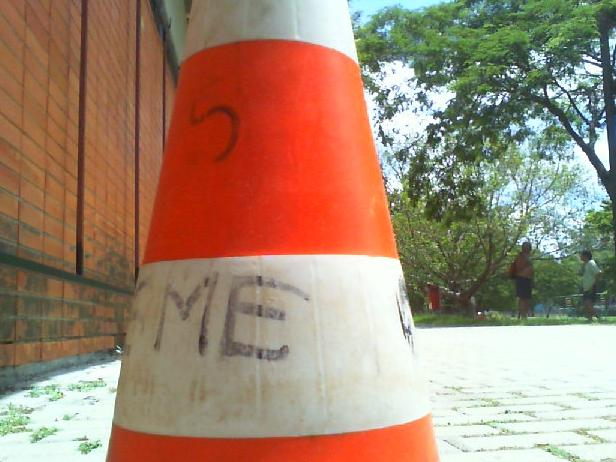0 cone: (102, 0, 442, 462)
